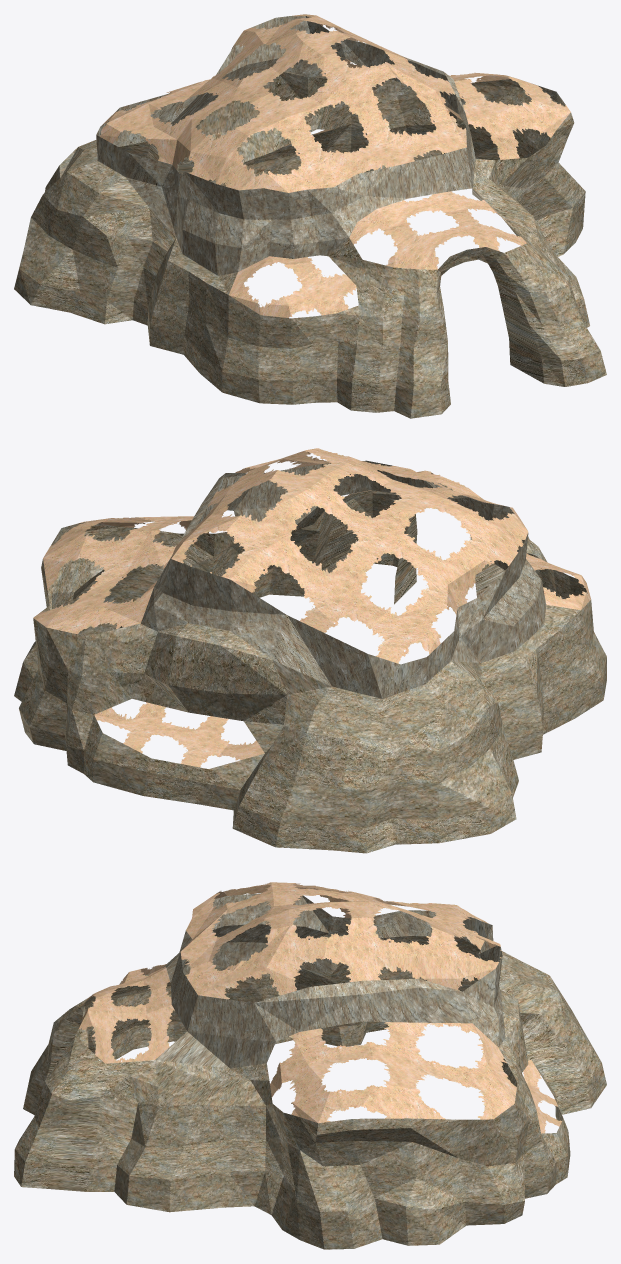
The model's file is poi_all_lair_cave_small_light_r0_mesh_l1.fbx.
3 views of the same model, one above another, from view 1: azimuth 30°, elevation 25°; view 2: azimuth 150°, elevation 25°; view 3: azimuth 270°, elevation 25° (orthographic). The views are drawn at different scales.
Parts seen in each view (by area): view 1: mesh_node; view 2: mesh_node; view 3: mesh_node.
Boxes of the visible parts, box(x1,y1,x2,y2) form: mesh_node: box(14, 14, 606, 418); mesh_node: box(14, 448, 606, 853); mesh_node: box(14, 882, 606, 1249).
Size of the model in its own units: 24.68 by 11.25 by 26.43.
